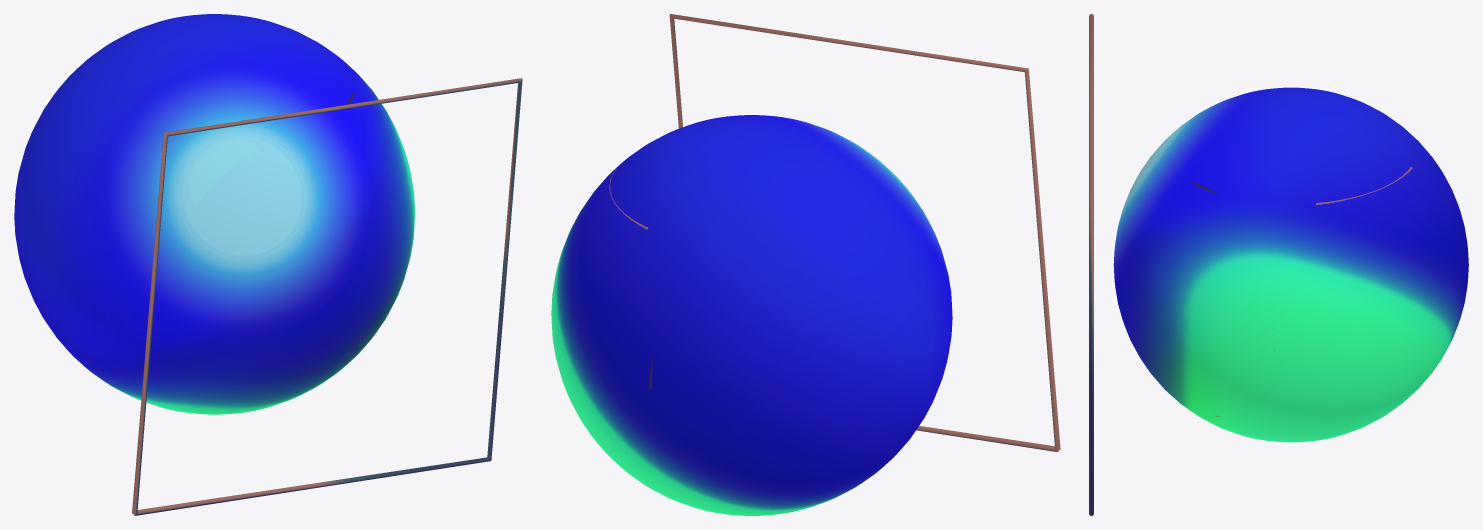
File: orb.glb
3 renders of one model, left to right at view 1: azimuth 30°, elevation 25°; view 2: azimuth 150°, elevation 25°; view 3: azimuth 270°, elevation 25°, orthographic. The views are drawn at different scales.
Visible parts, largest first — view 1: Sphere.020; view 2: Sphere.020; view 3: Sphere.020.
Part boxes in pixels (box(x1,y1,x2,y2)): Sphere.020: box(14, 14, 522, 515); Sphere.020: box(551, 14, 1060, 515); Sphere.020: box(1089, 14, 1468, 515).
Size of the model in its own units: 1.8 by 1.79 by 1.71.
1 material, 1 textured.
